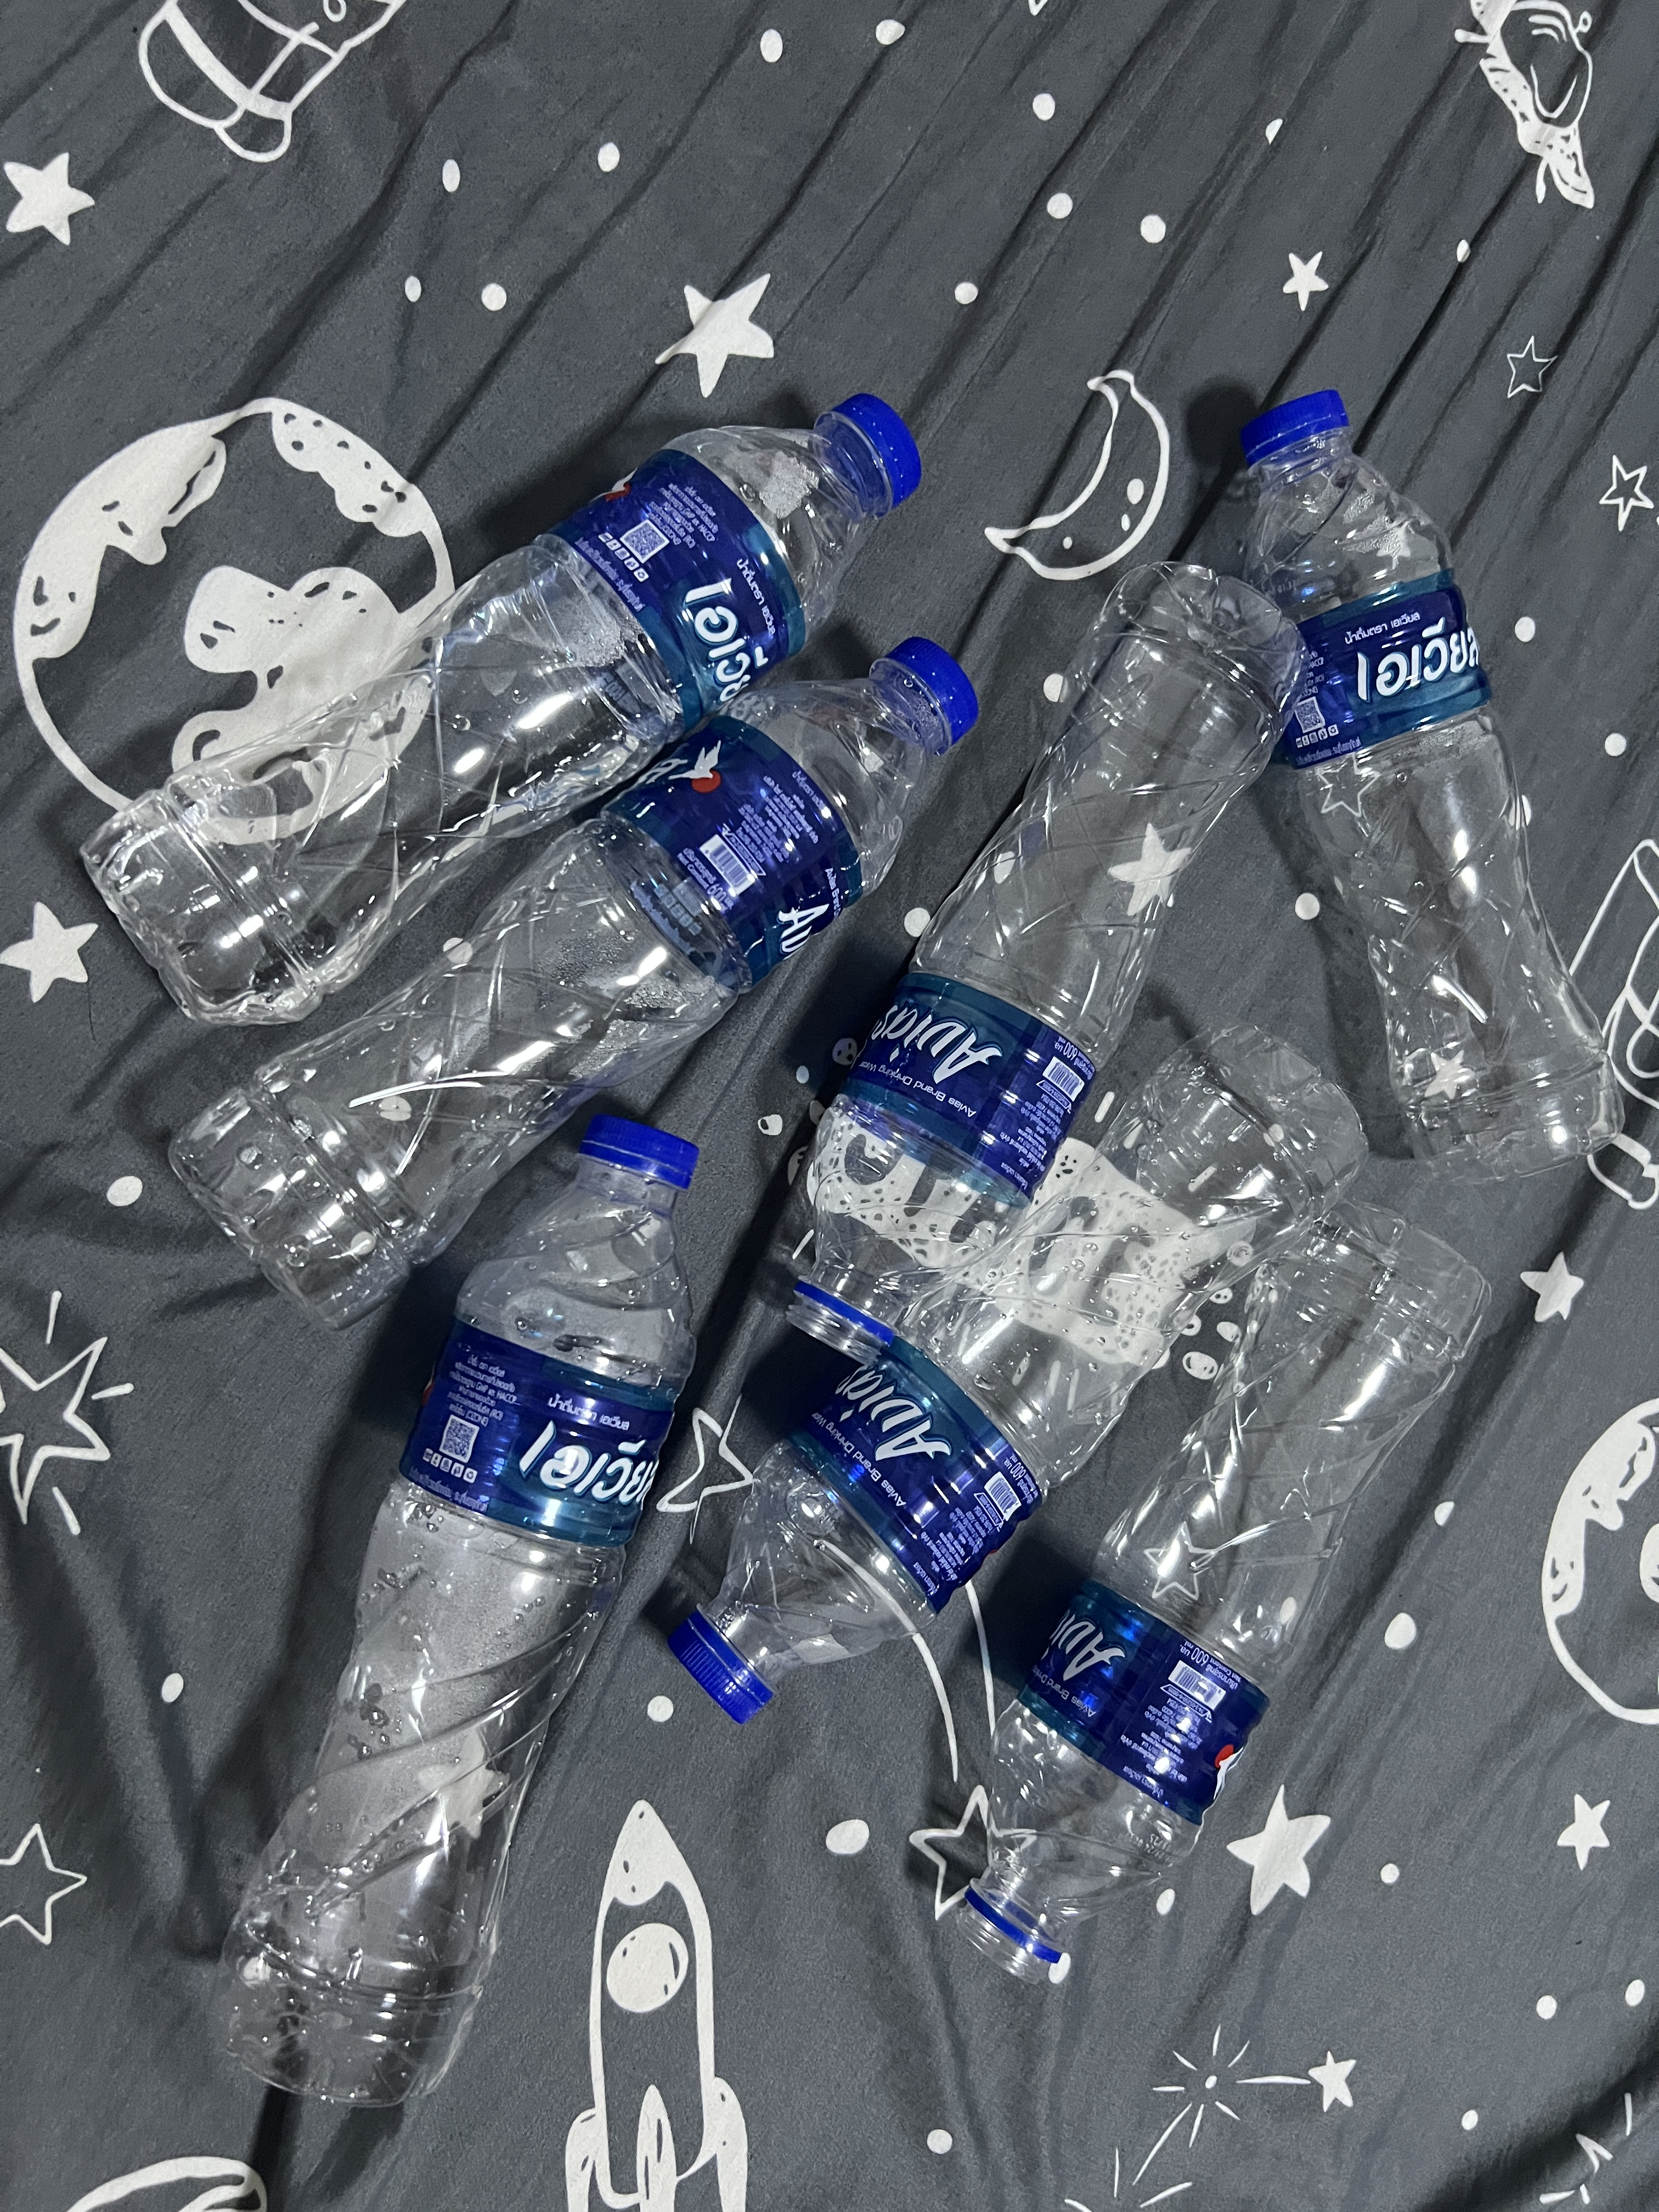plastic_bottle: (169, 637, 985, 1329), (152, 1120, 709, 2114), (667, 1021, 1384, 1724), (125, 392, 924, 1019), (941, 1221, 1504, 1989), (789, 557, 1319, 1359), (1223, 366, 1654, 1216)
